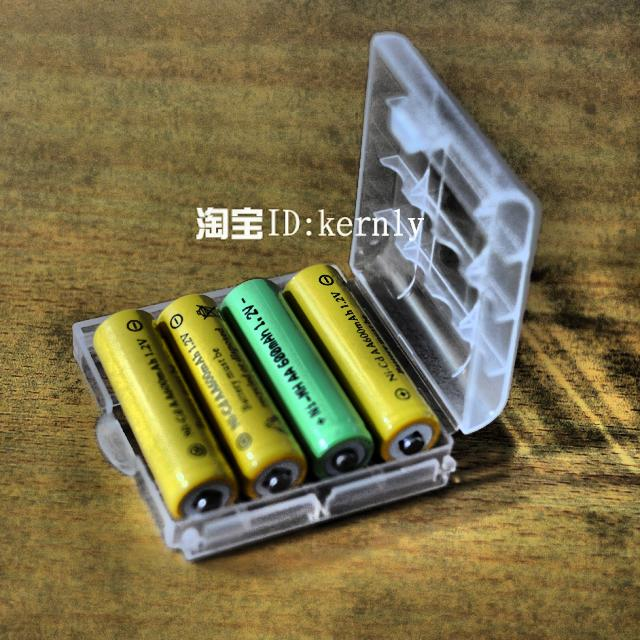Non-Valuable Waste - Batteries: (158, 295, 308, 498), (221, 279, 374, 478), (284, 265, 440, 460), (94, 310, 239, 517)
